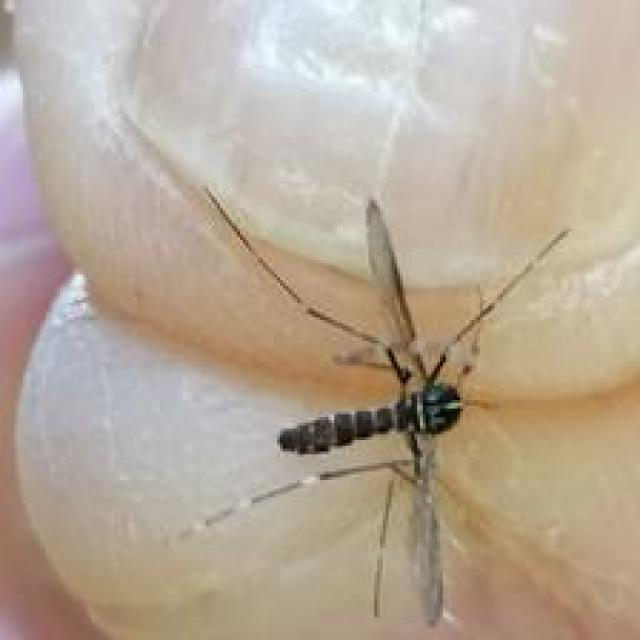Aedes albopictus: (184, 186, 590, 628)
